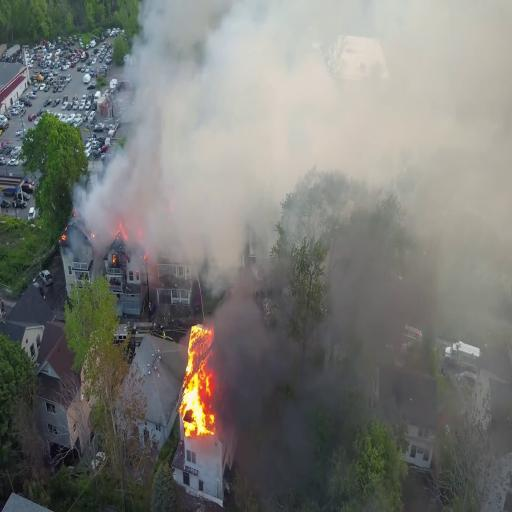fire: (178, 324, 208, 443)
smoke: (139, 0, 234, 265)
